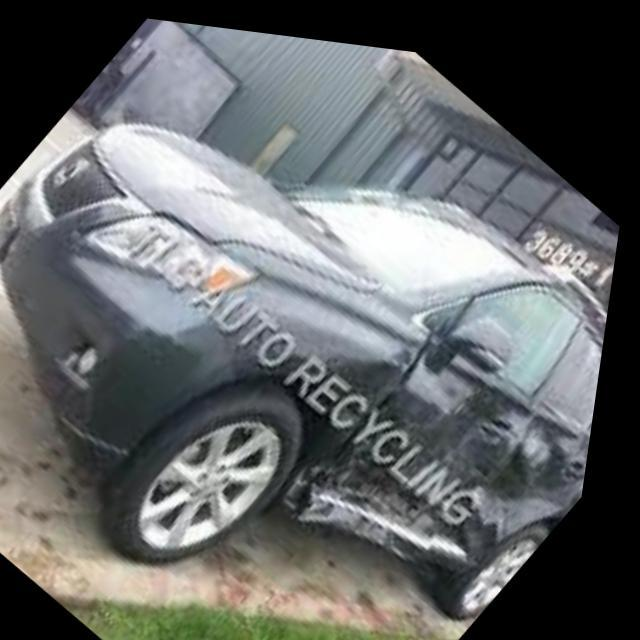dent: (291, 322, 601, 559)
